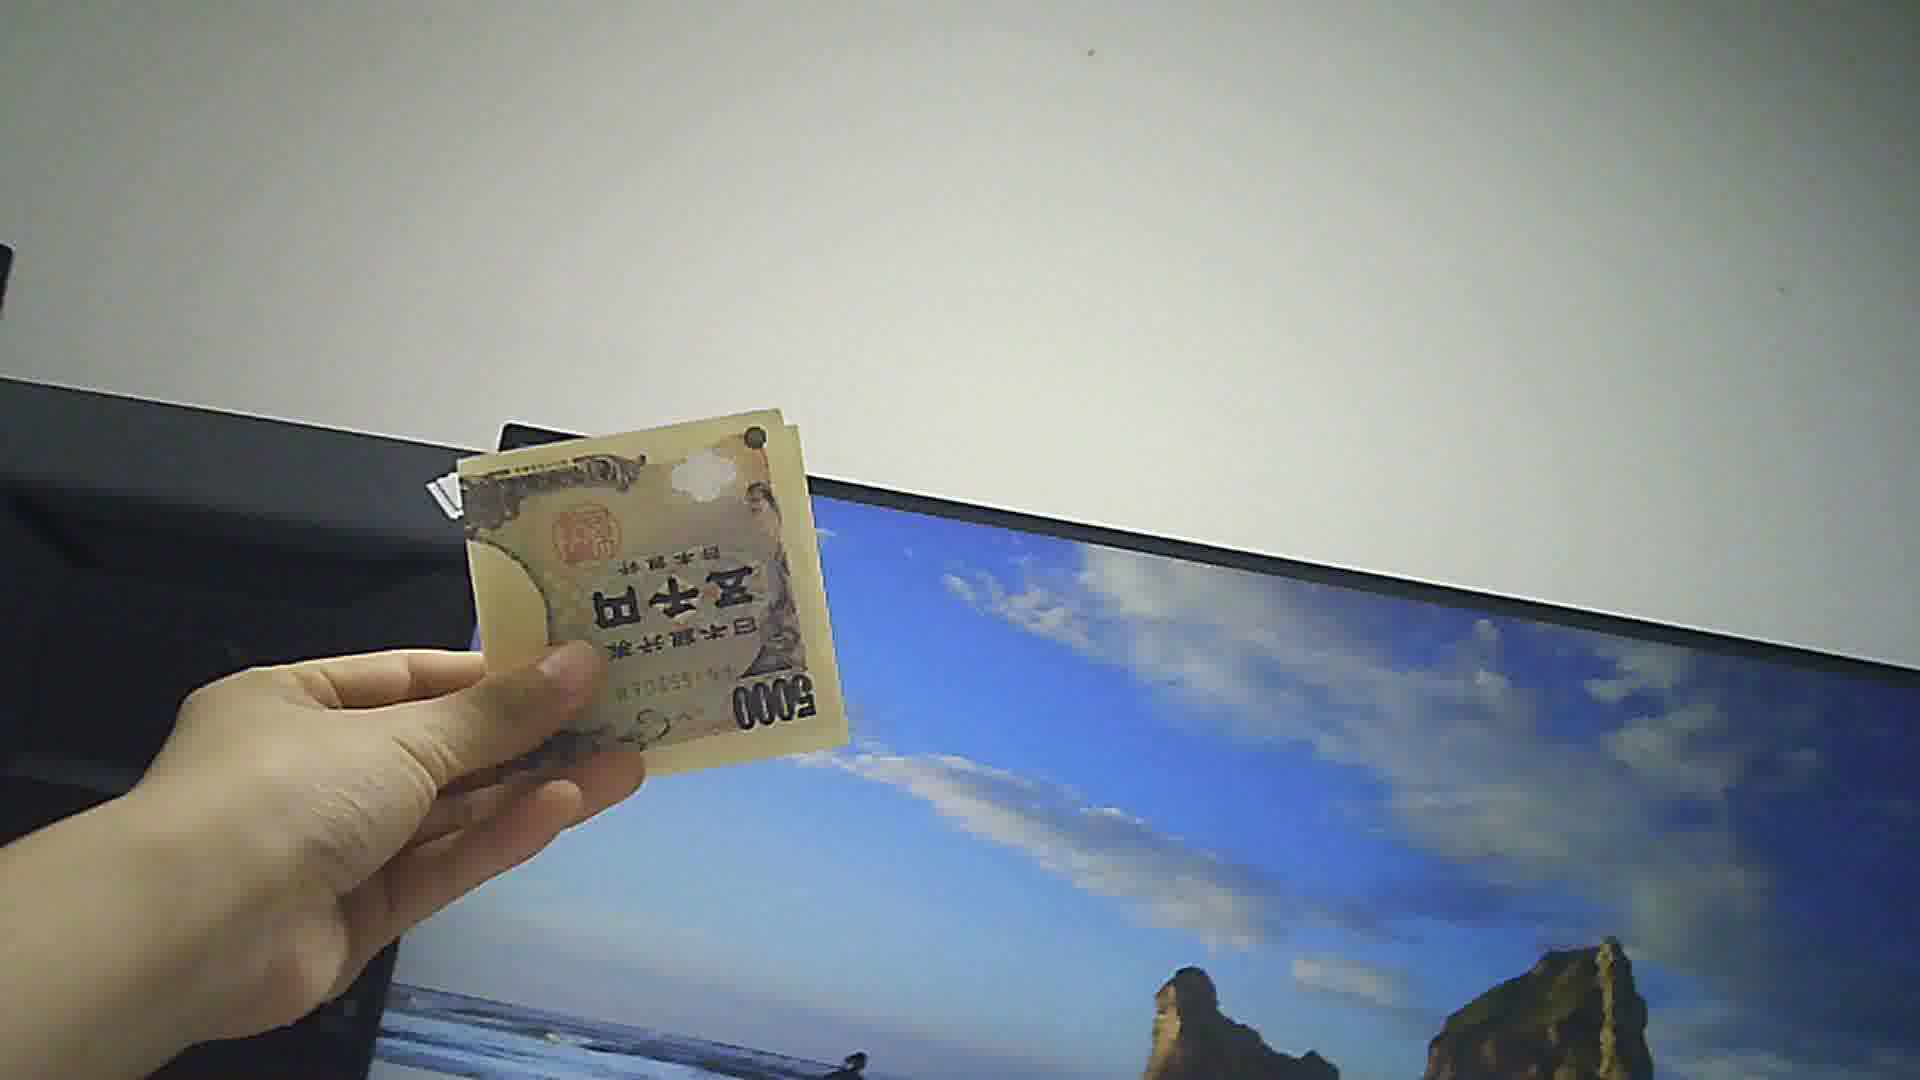5,000 Yen: (433, 415, 839, 810)
